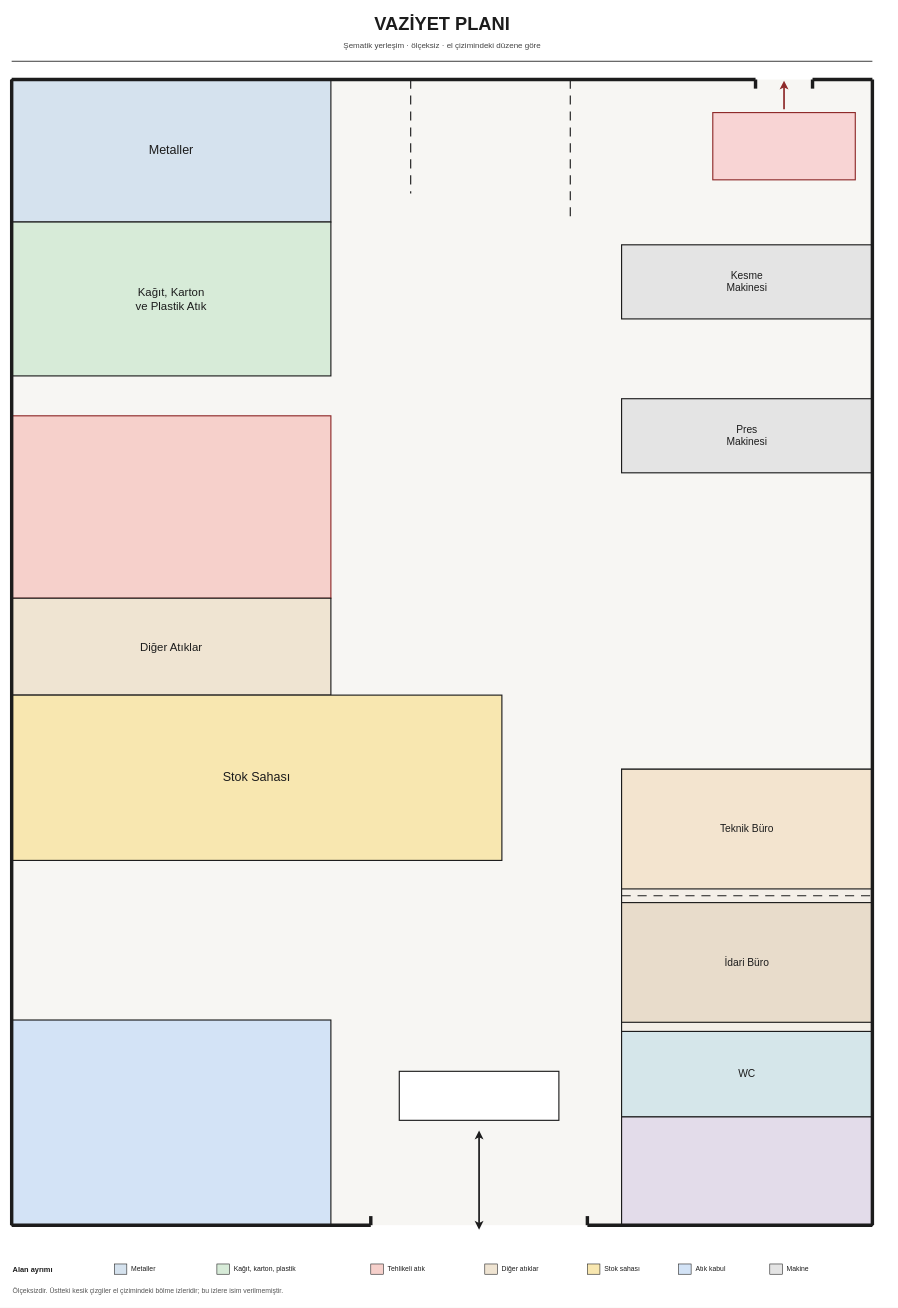
The diagram is 898 pixels wide and 1308 high, and some of its shapes have lost their labels. The shapes that lost their labels are listed below. From the top down, each one's centre as x and y in pixels, then its label:
the point at 784,146: Acil Çıkış Kapısı
the point at 171,506: Tehlikeli Atık Geçici Depolama Alanı
the point at 478,1095: Giriş - Çıkış Kapısı
the point at 171,1122: Atık Kabul Birimi
the point at 747,1171: Soyunma Odası
